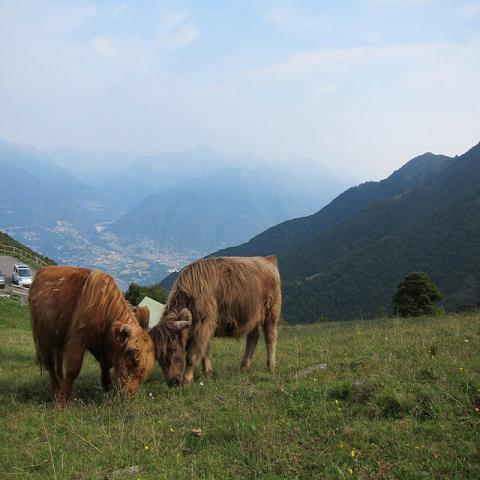car: (11, 263, 34, 287), (0, 270, 6, 290)
